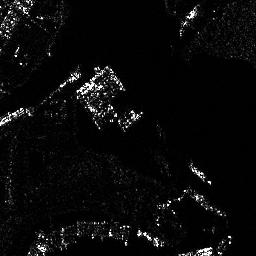ship: (178, 3, 201, 38), (189, 162, 213, 186)
